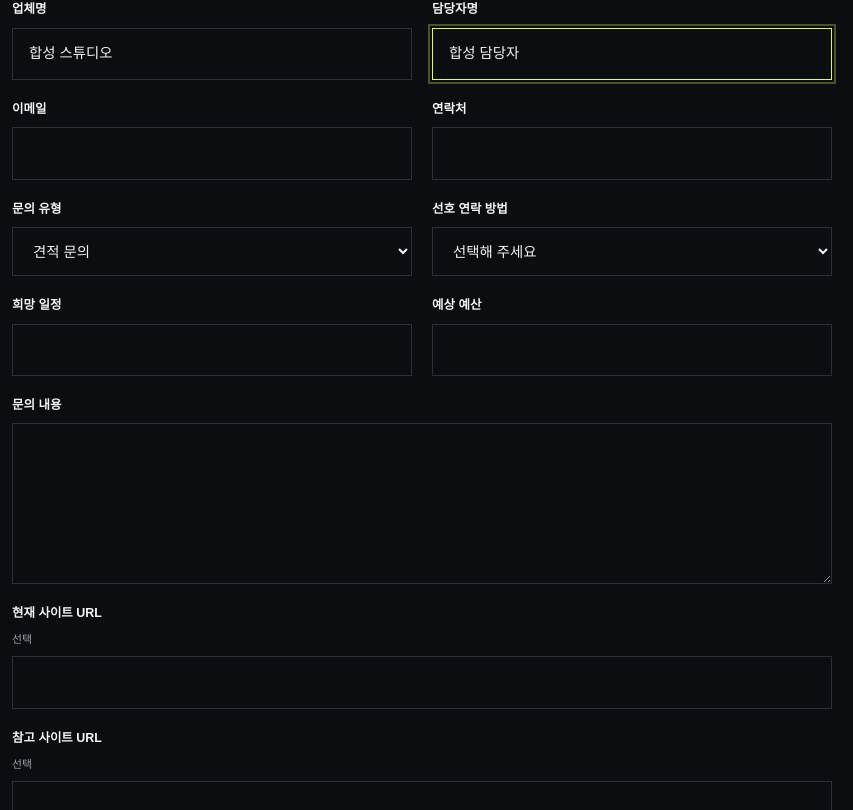
Scenario: 공개 견적 요청 폼 › 제출 중에는 버튼을 잠그고 중복 요청을 보내지 않는다
Earlier steps of the test are not shown.
Type "synthetic@example.com" into the field labelled "이메일".
click(212, 154); type("synthetic@example.com")  # box [12,127,412,180]
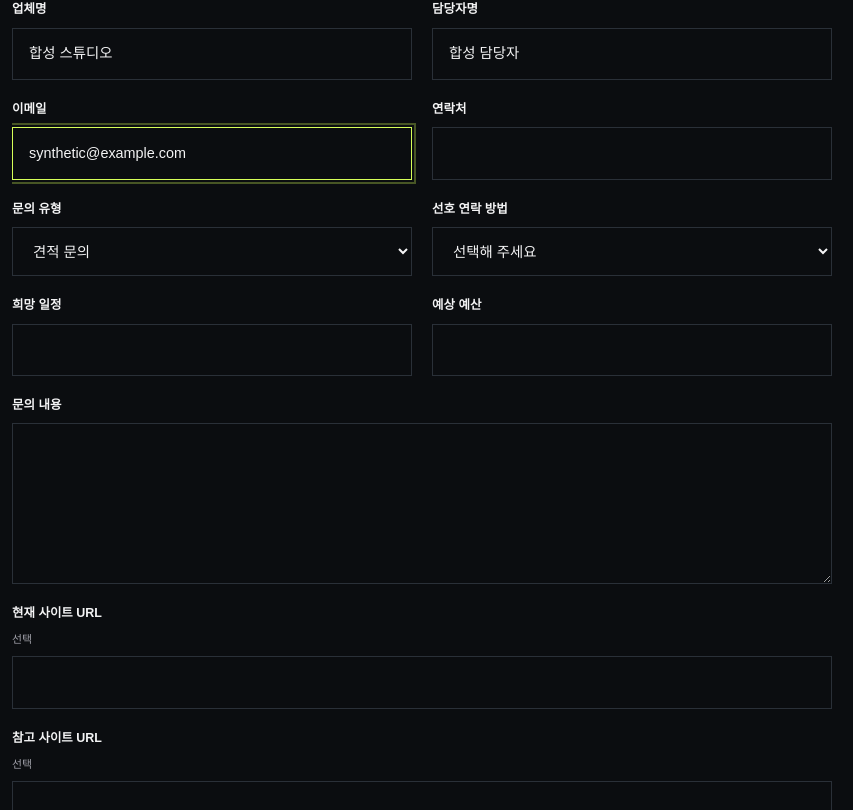
Type "010-0000-0000" into the field labelled "연락처".
click(632, 154); type("010-0000-0000")  # box [432,127,832,180]
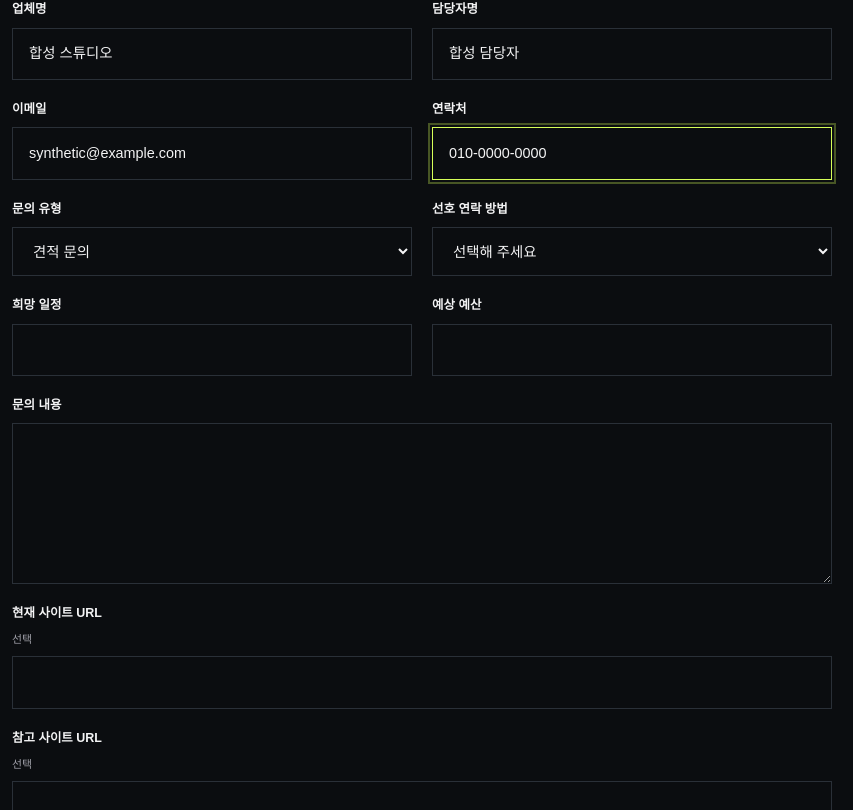
Select "견적 문의" in the dropdown labelled "문의 유형" at [212, 252], box [12,227,412,276]
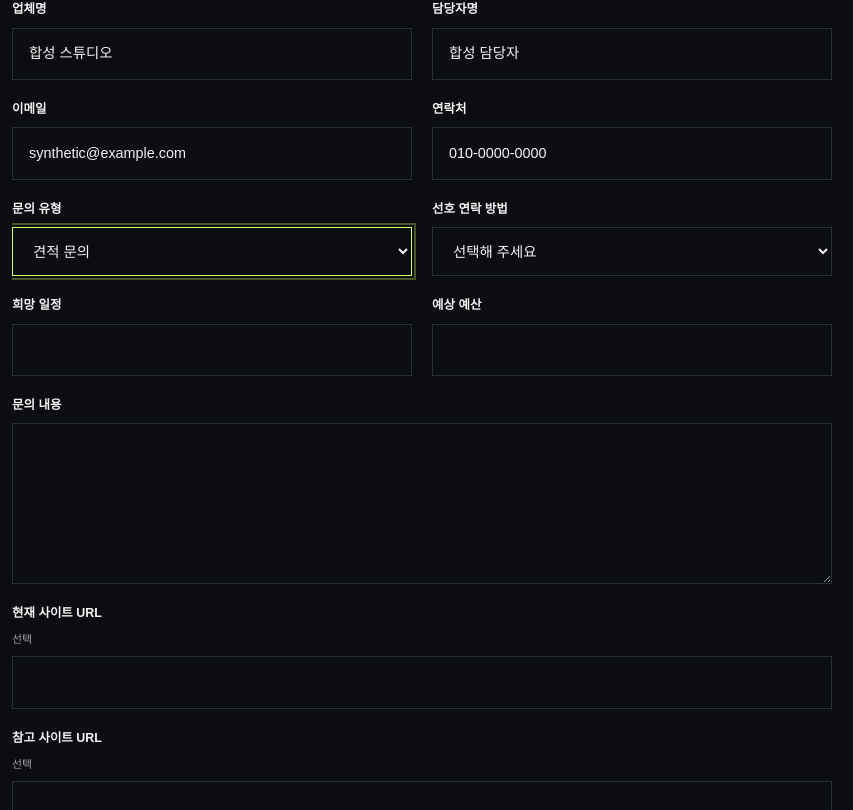
Type "합성 문의 내용입니다." into the text box labelled "문의 내용".
click(422, 504); type("합성 문의 내용입니다.")  # box [12,423,832,584]
(page scrolled)
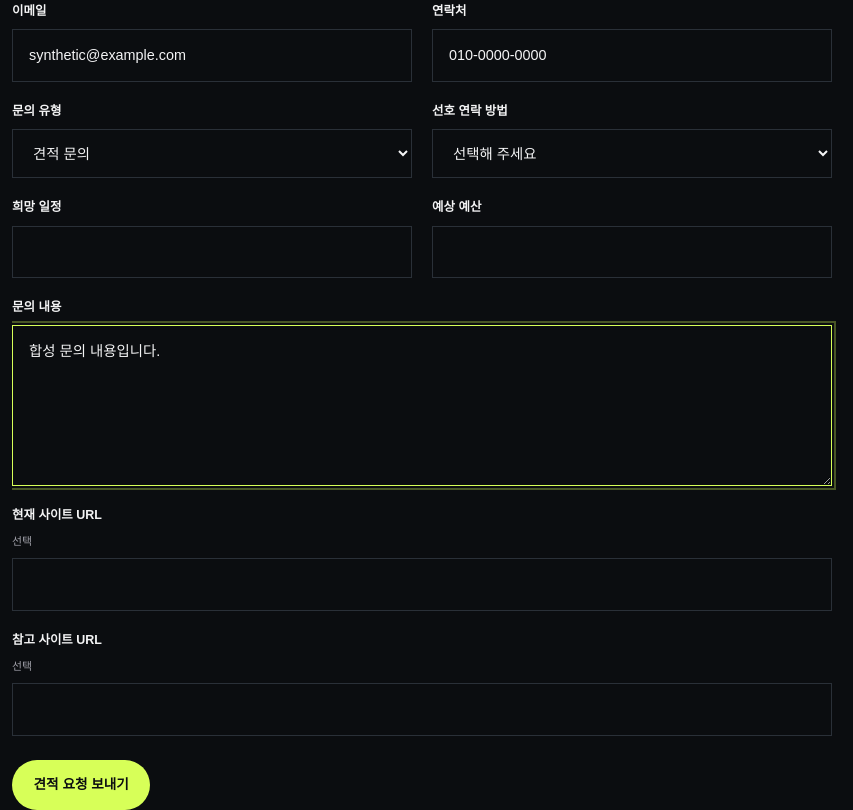
Click the button "견적 요청 보내기".
click(81, 785)  # box [12,760,150,809]
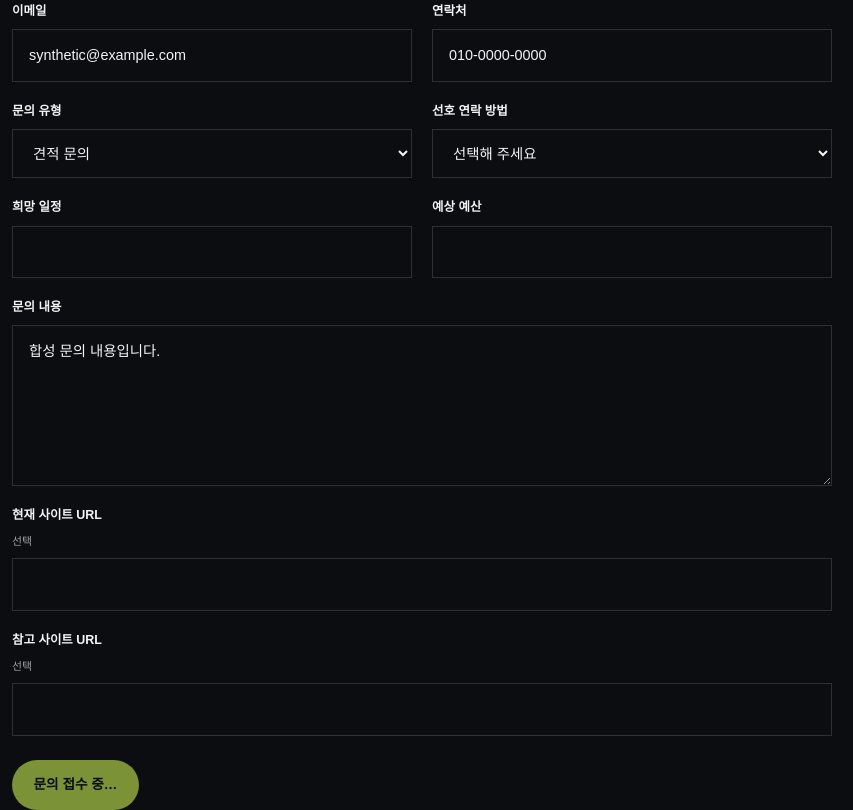
Check: the button named "견적 요청 보내기" is disabled
Click the button named "견적 요청 보내기".
click(75, 785)  # box [12,760,139,809]
(page scrolled)
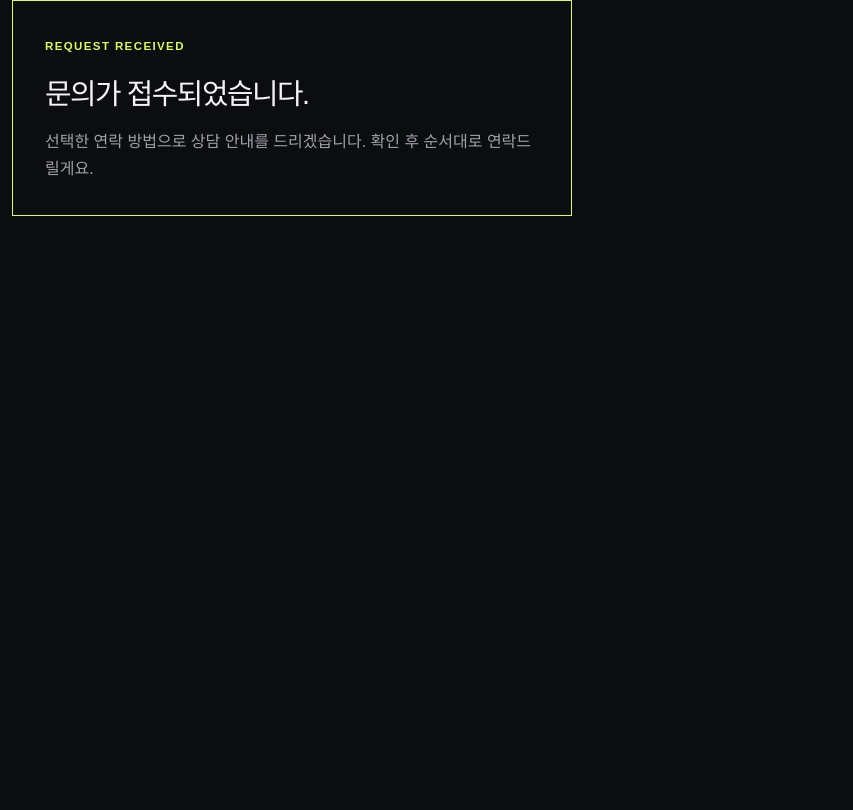
Check: the message shows "문의가 접수되었습니다.", box [45,78,309,110]
